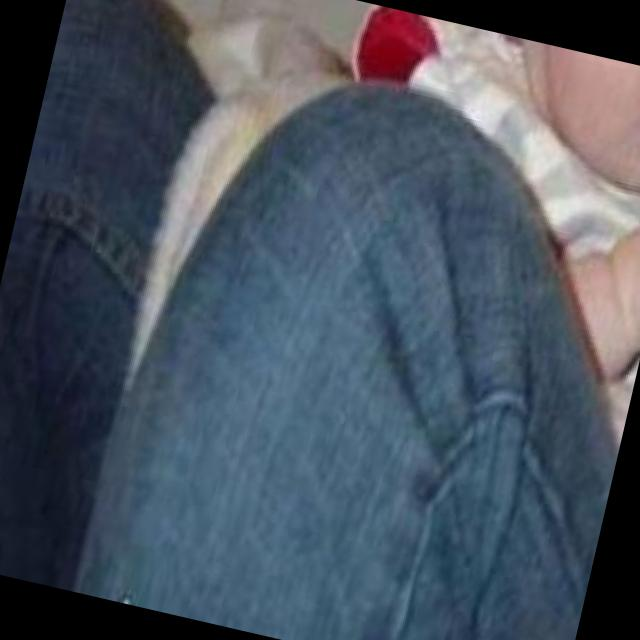Guns: (513, 69, 640, 640)
